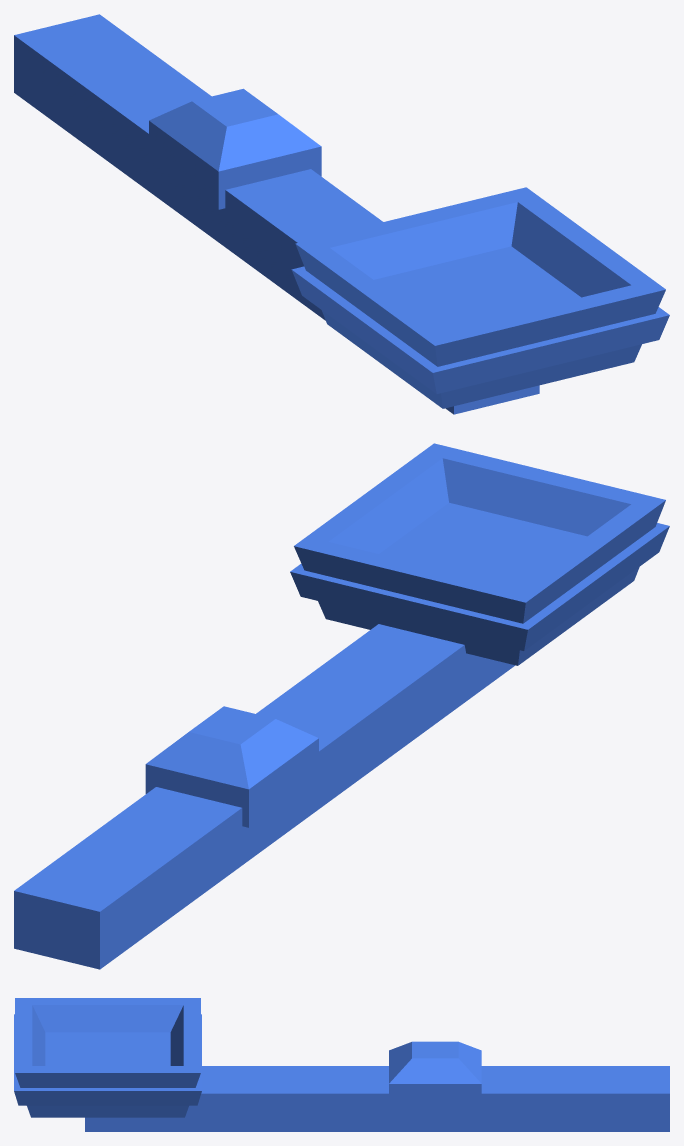
The model's file is Catapult_Detach.fbx.
3 views of the same model, one above another, from view 1: azimuth 30°, elevation 25°; view 2: azimuth 150°, elevation 25°; view 3: azimuth 270°, elevation 25° (orthographic). The views are drawn at different scales.
Parts seen in each view (by area): view 1: Catapult_Detach; view 2: Catapult_Detach; view 3: Catapult_Detach.
Part boxes in pixels (x1,y1,x2,y2): Catapult_Detach: [14, 14, 669, 414]; Catapult_Detach: [14, 443, 669, 969]; Catapult_Detach: [14, 998, 669, 1131].
Bounding box in the file's own units: 66 × 33.17 × 238.
